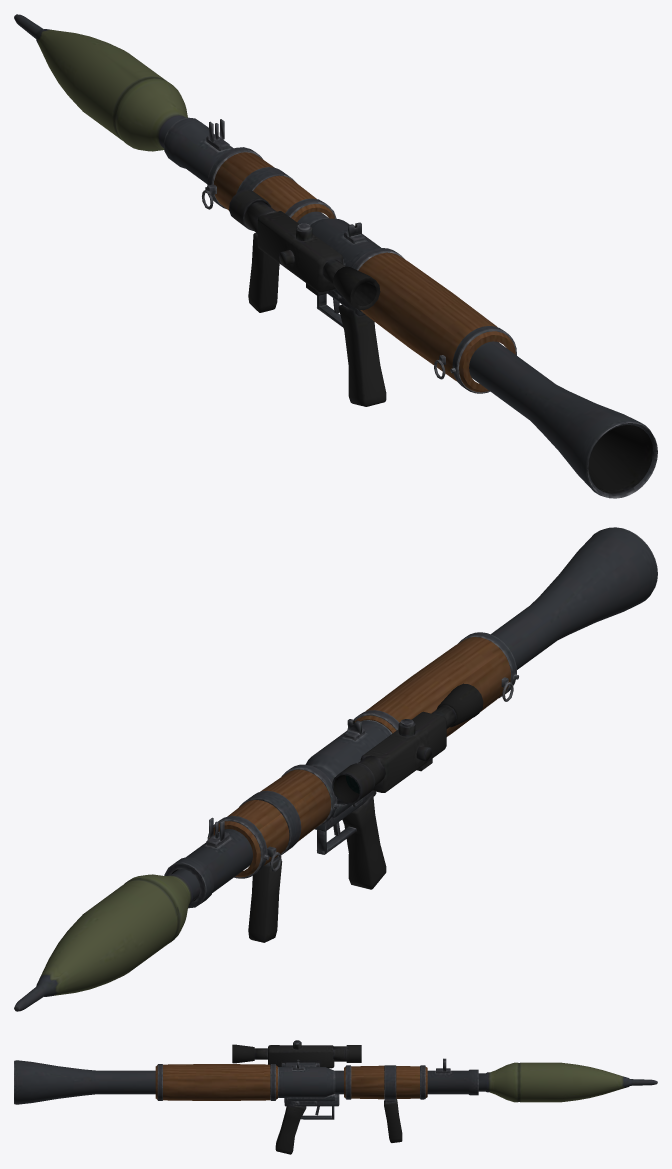
The model's file is rocket_launcher.glb.
3 views of the same model, one above another, from view 1: azimuth 30°, elevation 25°; view 2: azimuth 150°, elevation 25°; view 3: azimuth 270°, elevation 25° (orthographic). The views are drawn at different scales.
Visible parts, largest first — view 1: RocketLauncher, warhead; view 2: RocketLauncher, warhead; view 3: RocketLauncher, warhead.
Part boxes in pixels (bbox=[...]): RocketLauncher: bbox=[163, 117, 657, 498]; warhead: bbox=[14, 14, 187, 151]; RocketLauncher: bbox=[164, 527, 657, 942]; warhead: bbox=[14, 869, 200, 1011]; RocketLauncher: bbox=[14, 1040, 478, 1154]; warhead: bbox=[478, 1062, 657, 1102].
Bounding box in the file's own units: 0.144 × 0.2308 × 1.39.
1 material, 1 textured.
